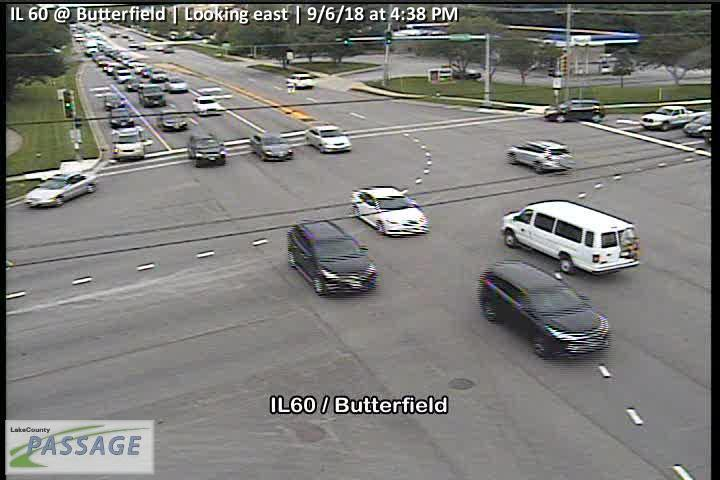SUV: (475, 258, 609, 359), (500, 199, 640, 278), (283, 219, 380, 299), (504, 140, 574, 174), (543, 98, 605, 123), (186, 134, 227, 167), (113, 127, 143, 160), (140, 84, 166, 109), (288, 73, 316, 89)
Sedan: (350, 186, 429, 238), (21, 173, 97, 207), (305, 125, 353, 154), (249, 133, 293, 162), (682, 113, 712, 139), (157, 108, 189, 131), (191, 96, 224, 118), (443, 61, 482, 78), (110, 107, 136, 129), (165, 76, 189, 94), (125, 78, 144, 93), (150, 70, 169, 84), (116, 71, 135, 83), (141, 68, 154, 78)
Truck: (640, 106, 707, 132)
